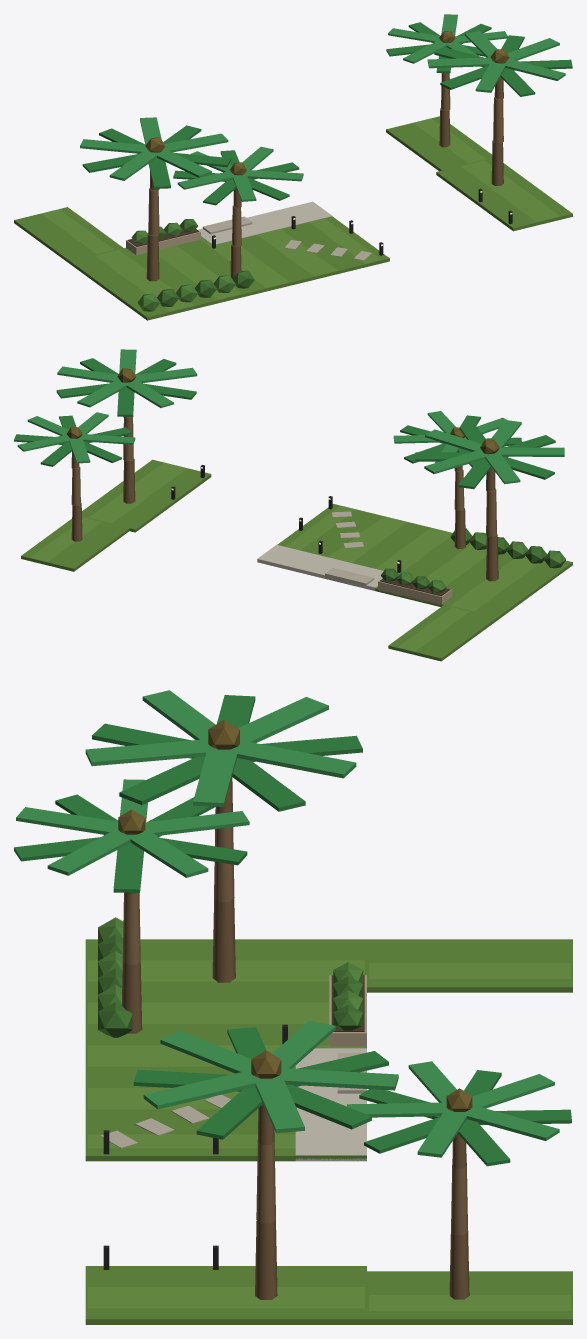
The model's file is frontGarden.glb.
The picture shows the model from 3 angles, top to bottom: view 1: azimuth 30°, elevation 25°; view 2: azimuth 150°, elevation 25°; view 3: azimuth 270°, elevation 25°; orthographic projection. The views are drawn at different scales.
Visible parts, largest first — view 1: frontGarden:plain, frontGarden:leaves, frontGarden:trunks, frontGarden:pave; view 2: frontGarden:plain, frontGarden:leaves, frontGarden:trunks, frontGarden:pave; view 3: frontGarden:plain, frontGarden:leaves, frontGarden:trunks, frontGarden:pave.
Boxes of the visible parts, <box> form: frontGarden:plain: <box>14,116,572,320</box>; frontGarden:leaves: <box>80,14,572,311</box>; frontGarden:trunks: <box>146,73,503,285</box>; frontGarden:pave: <box>198,201,332,244</box>; frontGarden:plain: <box>21,459,572,661</box>; frontGarden:leaves: <box>14,349,565,593</box>; frontGarden:trunks: <box>71,416,498,581</box>; frontGarden:pave: <box>257,544,383,590</box>; frontGarden:plain: <box>85,939,572,1324</box>; frontGarden:leaves: <box>14,690,571,1166</box>; frontGarden:trunks: <box>121,777,469,1299</box>; frontGarden:pave: <box>295,1048,366,1161</box>.
Bounding box in the file's own units: 24.36 × 6.89 × 13.3.
